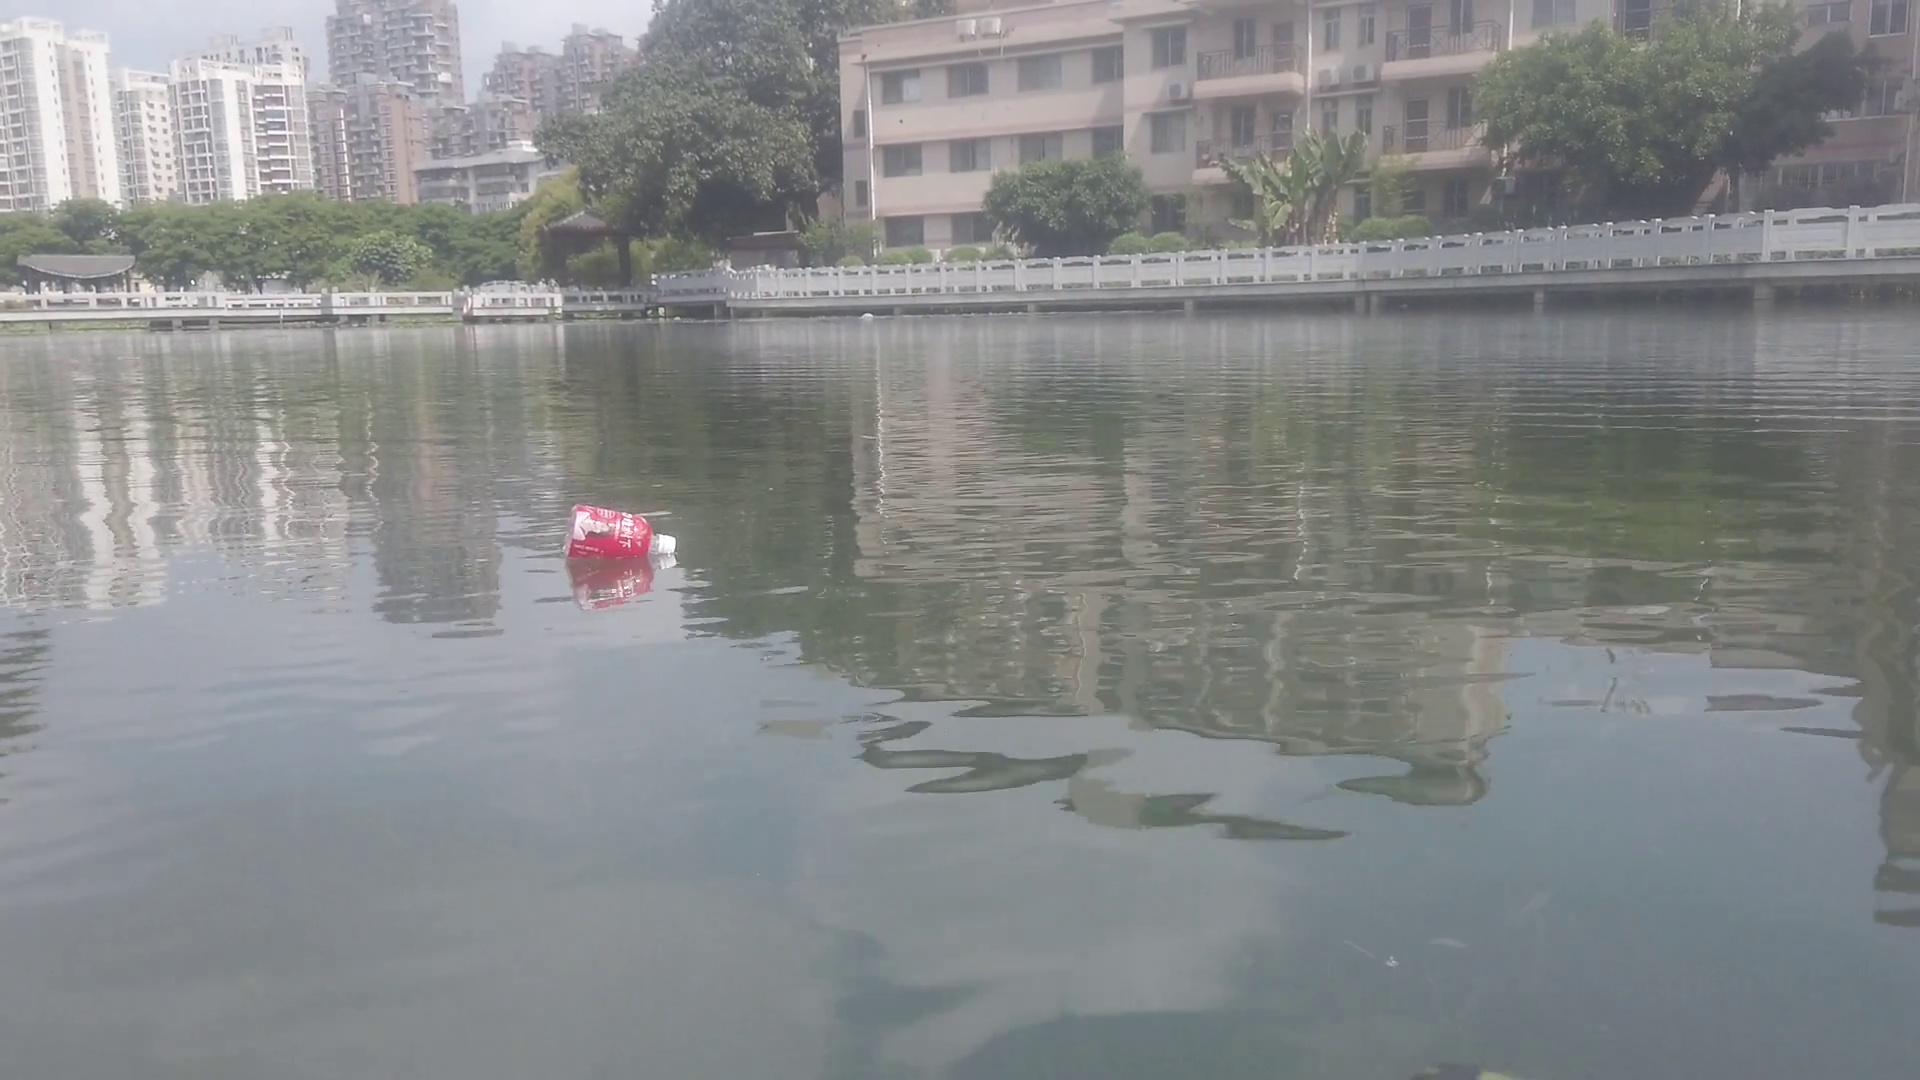bottle: (555, 502, 678, 560)
plastic: (855, 311, 870, 319)
